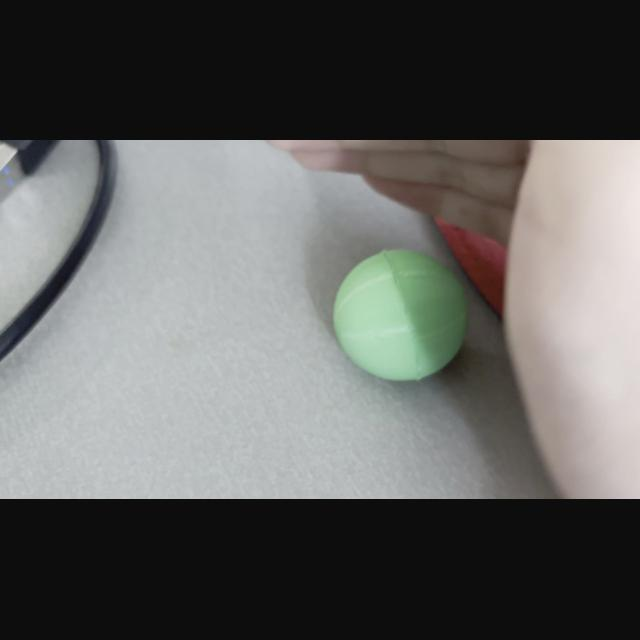objects: (330, 243, 472, 387)
